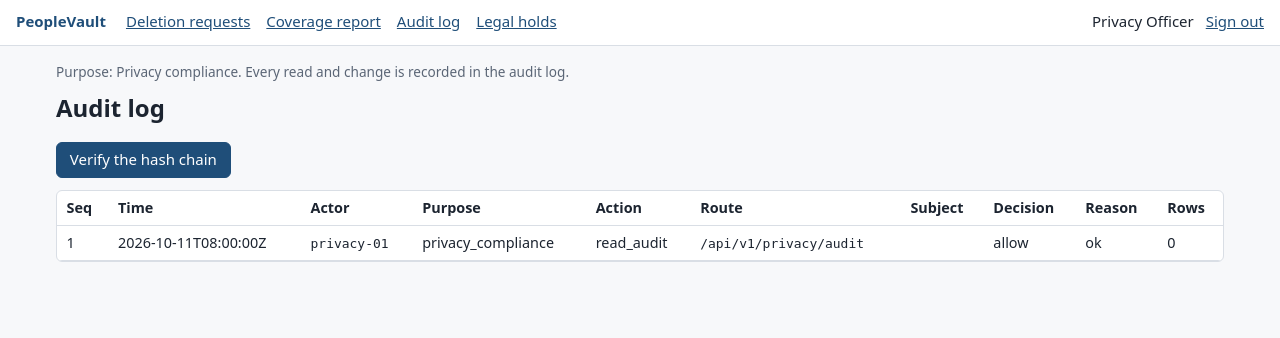
Test case: audit log › verifies the chain window by window and shows the result
Check: the text "read_audit" is shown, box [586, 226, 691, 261]
Click the button "Verify the hash chain" at (143, 160), box [56, 142, 231, 178]
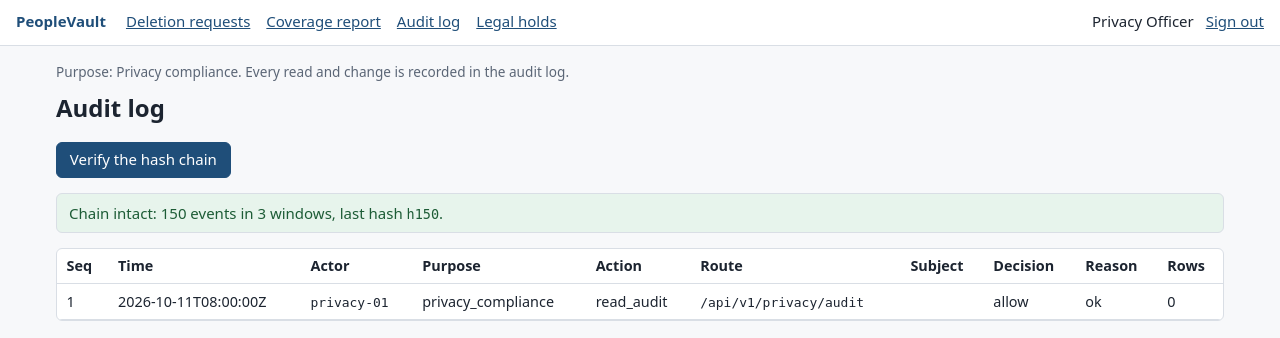
Check: the message reads "Chain intact: 150 events in 3 windows, last hash h150.", box [56, 193, 1224, 233]
